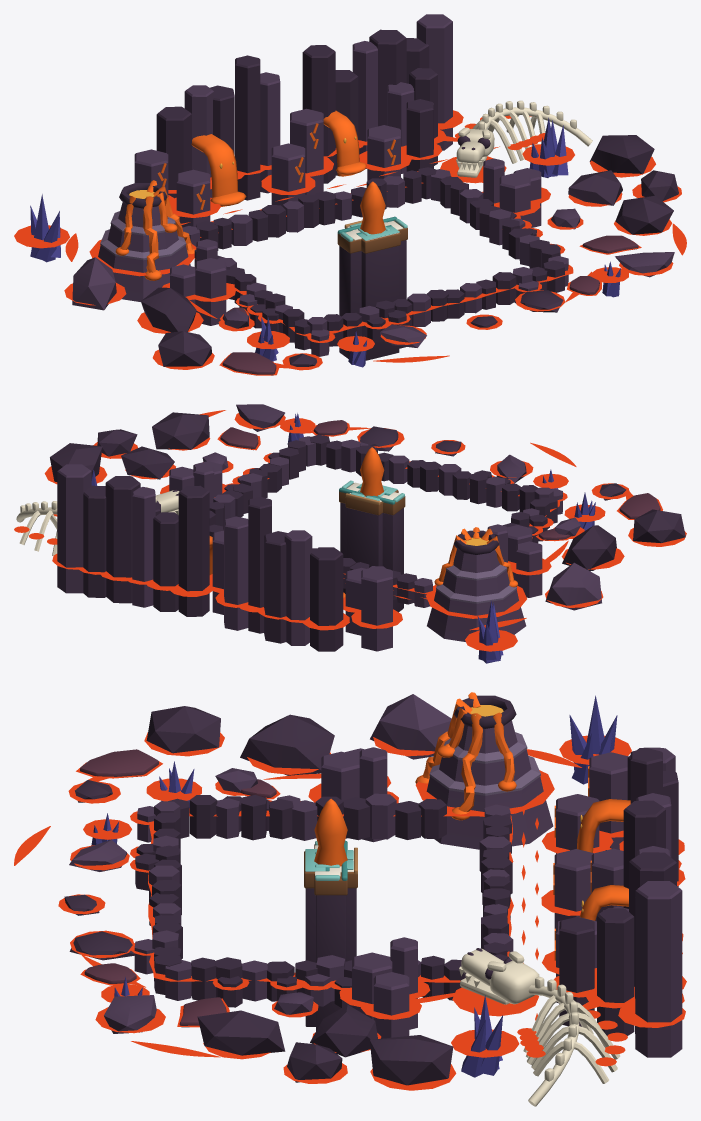
The model's file is lava.glb.
3 views of the same model, one above another, from view 1: azimuth 30°, elevation 25°; view 2: azimuth 150°, elevation 25°; view 3: azimuth 270°, elevation 25° (orthographic). The views are drawn at different scales.
Parts seen in each view (by area): view 1: wall, causeway, rocks_east, foam, rocks_west, volcano_body, lavafalls, bones, part_bed_leg, streams, part_sofa_leg, swirl (+6 smaller); view 2: wall, causeway, rocks_west, foam, rocks_east, volcano_body, part_bed_leg, part_sofa_leg, bones, part_plume, streams, swirl (+6 smaller); view 3: wall, causeway, rocks_east, foam, rocks_west, volcano_body, bones, streams, skull_top, lavafalls, swirl, part_sofa_leg (+7 smaller).
Boxes of the visible parts, <box> form: wall: <box>134,14,452,227</box>; causeway: <box>182,167,568,356</box>; rocks_east: <box>470,117,678,327</box>; foam: <box>14,110,681,375</box>; rocks_west: <box>30,194,426,367</box>; volcano_body: <box>98,183,190,301</box>; lavafalls: <box>191,110,359,206</box>; bones: <box>472,100,592,163</box>; part_bed_leg: <box>361,246,399,360</box>; streams: <box>115,180,195,280</box>; part_sofa_leg: <box>339,240,406,358</box>; swirl: <box>65,135,686,368</box>; wall: <box>57,464,392,651</box>; causeway: <box>209,434,562,607</box>; rocks_west: <box>477,454,685,663</box>; foam: <box>14,413,686,651</box>; rocks_east: <box>50,404,461,502</box>; volcano_body: <box>427,530,526,641</box>; part_bed_leg: <box>347,508,382,567</box>; part_sofa_leg: <box>340,502,403,612</box>; bones: <box>16,501,57,555</box>; part_plume: <box>360,447,384,496</box>; streams: <box>434,527,517,587</box>; swirl: <box>199,410,633,630</box>; wall: <box>554,747,682,1057</box>; causeway: <box>134,793,513,1007</box>; rocks_east: <box>64,894,502,1085</box>; foam: <box>58,732,686,1090</box>; rocks_west: <box>69,694,617,871</box>; volcano_body: <box>426,695,553,849</box>; bones: <box>523,976,620,1106</box>; streams: <box>415,692,516,820</box>; skull_top: <box>459,948,539,1004</box>; lavafalls: <box>577,799,630,920</box>; swirl: <box>14,749,611,1057</box>; part_sofa_leg: <box>316,895,346,1030</box>.
Size of the model in its own units: 33.95 by 11.16 by 26.2.
